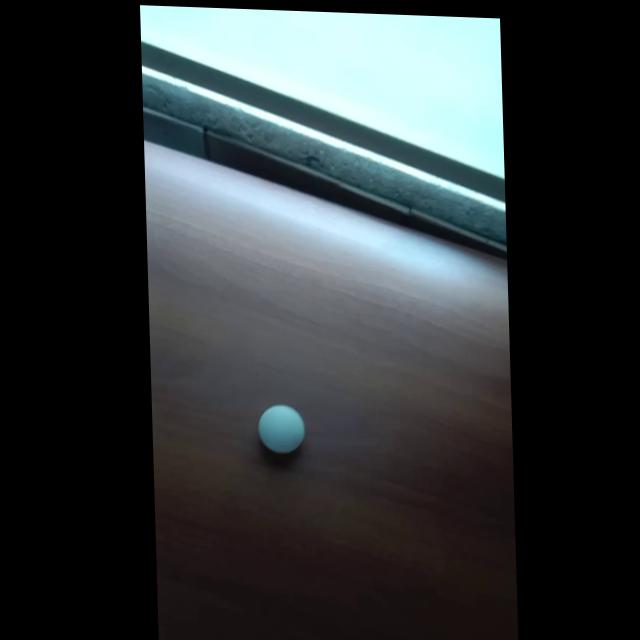white ball: (257, 403, 306, 455)
